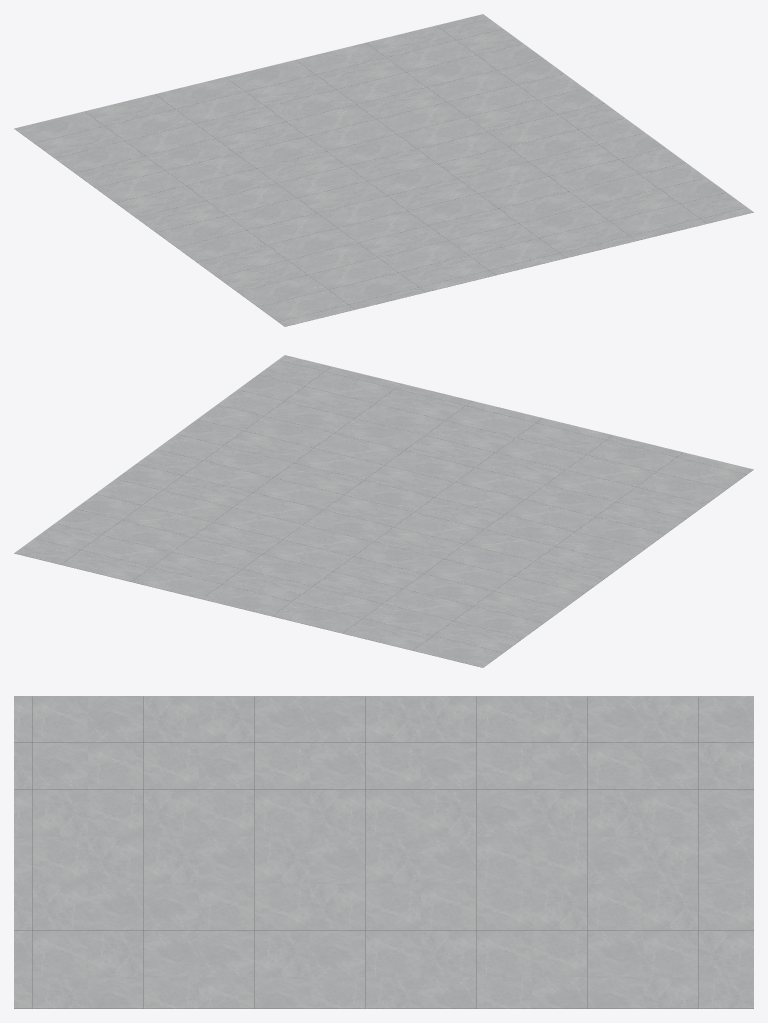
Rendered from harmony-60x120.glb.
3 views of the same model, one above another, from view 1: azimuth 30°, elevation 25°; view 2: azimuth 150°, elevation 25°; view 3: azimuth 270°, elevation 25° (orthographic). The views are drawn at different scales.
Parts seen in each view (by area): view 1: Harmony; view 2: Harmony; view 3: Harmony.
Boxes of the visible parts, x1,y1,x2,y2 form: Harmony: [14, 14, 753, 326]; Harmony: [14, 355, 753, 667]; Harmony: [14, 696, 753, 1008].
Bounding box in the file's own units: 8 × 0.003 × 8.
2 materials, 1 textured.
